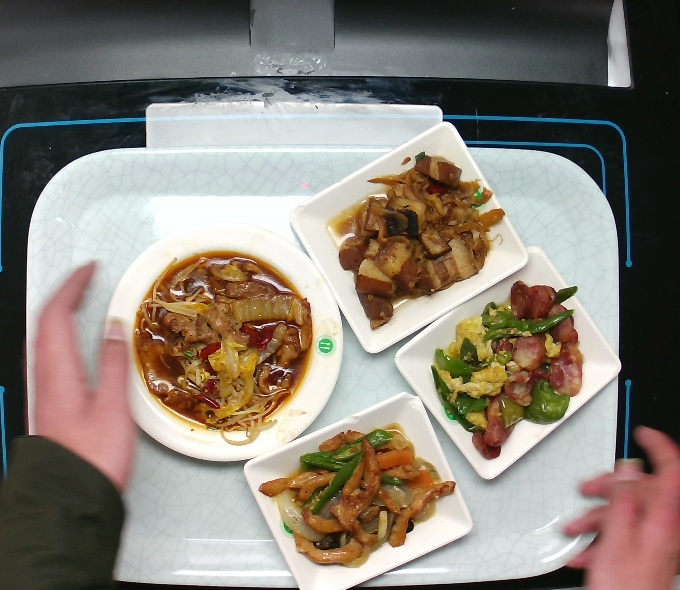wcq-HongShaoRou: (329, 152, 506, 332)
wcq-QingJiaoJiDanChaoDaChang: (431, 278, 585, 461)
wcq-QingJiaoRouSi: (257, 424, 459, 571)
wcq-ShuiZhuRouPian: (130, 247, 314, 434)
